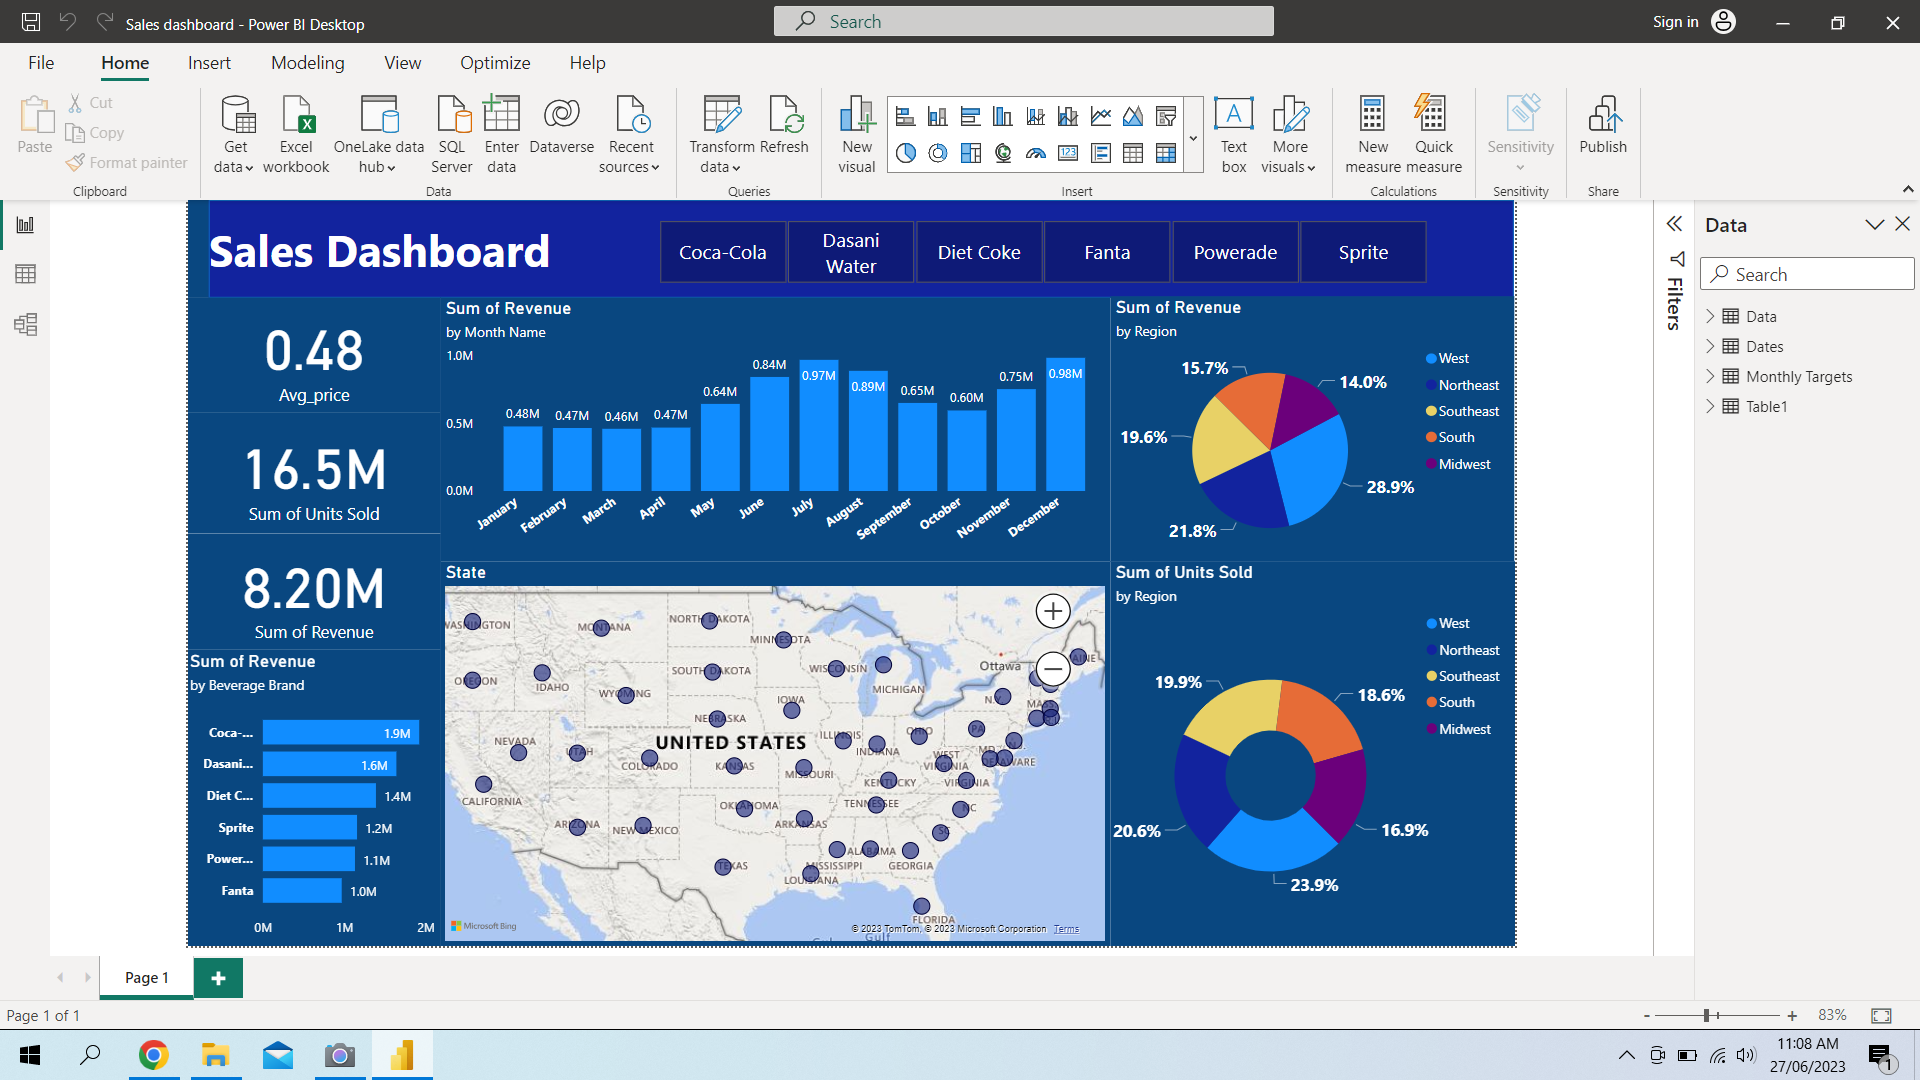

The page's visual inventory and layout, read from the dashboard file:
{"tool":"powerbi","page":{"name":"Page 1","canvas":[1280,720],"ordinal":0},"visuals":[{"type":"shape","box":[0,0,1279.6,94.1],"z":0},{"type":"card","fields":{"Values":["Data.Avg_price"]},"box":[0,94.1,243.6,111],"z":1000},{"type":"card","fields":{"Values":["Sum(Table1.Units Sold)"]},"box":[0,205,243.6,117],"z":2000},{"type":"card","fields":{"Values":["Sum(Table1.Revenue)"]},"box":[0,322,243.6,112.2],"z":3000},{"type":"columnChart","fields":{"Y":["Sum(Table1.Revenue)"],"Category":["Table1.Month Name"]},"box":[243.6,94.1,646.4,254.5],"z":3001},{"type":"map","fields":{"Category":["Table1.State"]},"box":[243.6,348.5,646.4,371.5],"z":3002},{"type":"slicer","fields":{"Values":["Table1.Beverage Brand"]},"box":[429.3,13.3,789.9,68.7],"z":3003},{"type":"pieChart","fields":{"Category":["Table1.Region"],"Y":["Sum(Table1.Revenue)"]},"box":[890.1,92.9,389.5,255.7],"z":3004},{"type":"donutChart","fields":{"Y":["Sum(Table1.Units Sold)"],"Category":["Table1.Region"]},"box":[890,349,390,371],"z":3005},{"type":"barChart","fields":{"Y":["Sum(Table1.Revenue)"],"Category":["Table1.Beverage Brand"]},"box":[0,434.2,243.6,285.8],"z":3006}]}

Visuals, with their boxes on the page's 1280x720 design canvas (x1, y1, x2, y2). These are canvas units, not pixel positions in the 1920x1080 screenshot, which may show the page scaled, cropped or inside an application window:
shape: bbox=(0, 0, 1280, 94)
card - Data.Avg_price: bbox=(0, 94, 244, 205)
card - Sum(Table1.Units Sold): bbox=(0, 205, 244, 322)
card - Sum(Table1.Revenue): bbox=(0, 322, 244, 434)
columnChart - Sum(Table1.Revenue) x Table1.Month Name: bbox=(244, 94, 890, 349)
map - Table1.State: bbox=(244, 348, 890, 720)
slicer - Table1.Beverage Brand: bbox=(429, 13, 1219, 82)
pieChart - Table1.Region x Sum(Table1.Revenue): bbox=(890, 93, 1280, 349)
donutChart - Sum(Table1.Units Sold) x Table1.Region: bbox=(890, 349, 1280, 720)
barChart - Sum(Table1.Revenue) x Table1.Beverage Brand: bbox=(0, 434, 244, 720)
